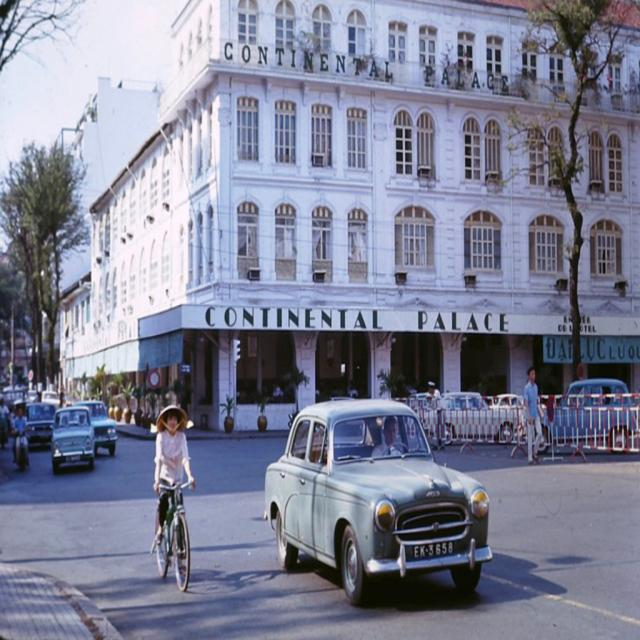car: (252, 398, 491, 610), (541, 378, 632, 451), (418, 396, 516, 441), (53, 404, 94, 464), (81, 398, 118, 457), (492, 388, 531, 437), (27, 402, 58, 443)
